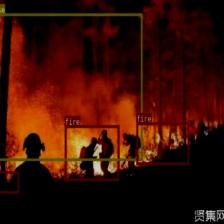fire: (64, 125, 119, 180), (136, 121, 189, 164), (0, 170, 19, 192)
smoke: (0, 13, 142, 160)
